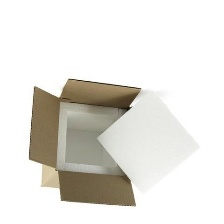foam_box: (92, 85, 203, 198), (51, 97, 147, 177)
